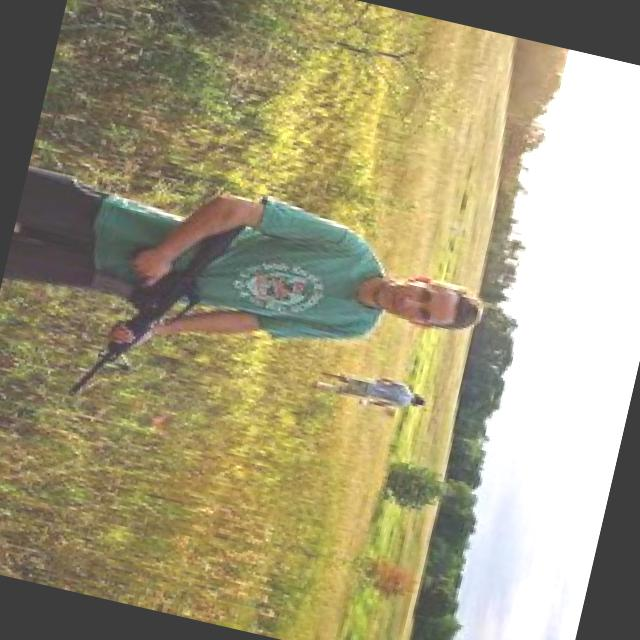long weapon: (72, 178, 242, 412)
